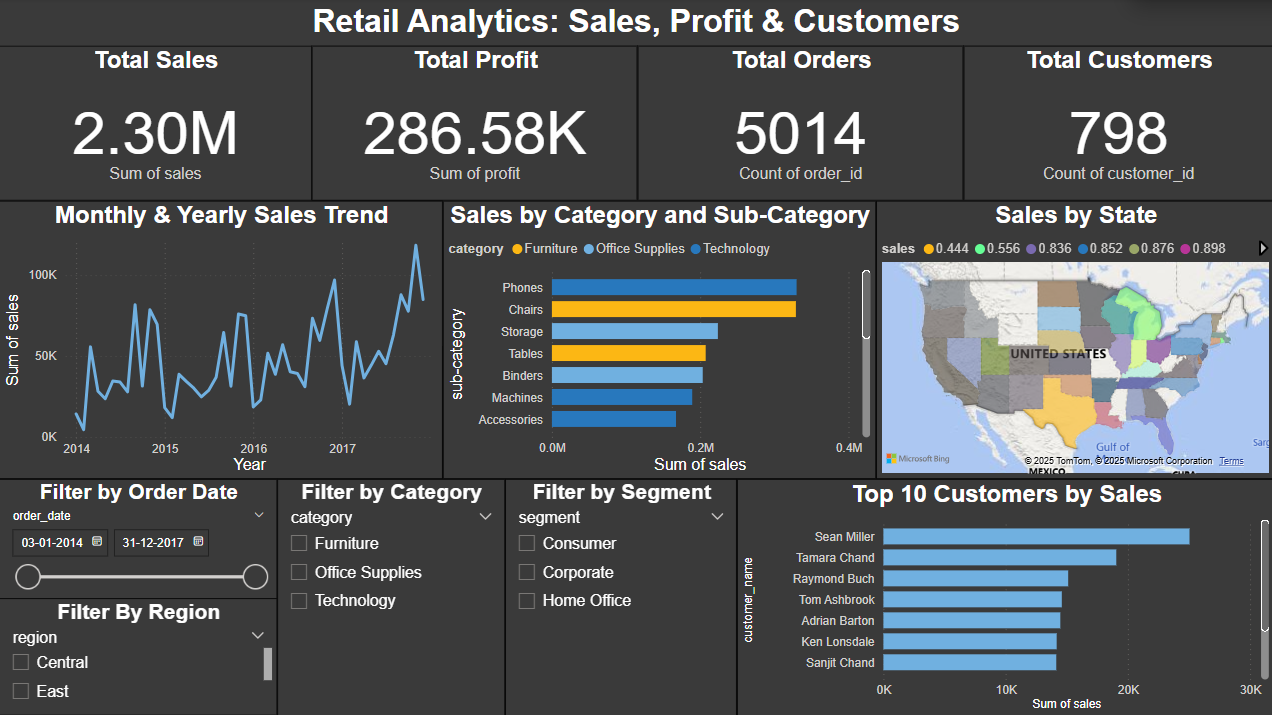

What the dashboard file says about the page in this screenshot:
{"tool":"powerbi","page":{"name":"Retail Sales Dashboard","canvas":[1280,720],"ordinal":0},"visuals":[{"type":"card","title":"Total Sales","fields":{"Values":["daily_sales.sales"]},"box":[0,47.9,313.7,155.5],"z":0},{"type":"card","title":"Total Profit","fields":{"Values":["daily_sales.profit"]},"box":[313.7,47.9,327,155.5],"z":1000},{"type":"card","title":"Total Orders","fields":{"Values":["daily_sales.order_id"]},"box":[640.8,47.9,327,155.5],"z":2000},{"type":"card","title":"Total Customers","fields":{"Values":["daily_sales.customer_id"]},"box":[967.8,47.9,311.1,155.5],"z":3000},{"type":"lineChart","title":"Monthly & Yearly Sales Trend","fields":{"Y":["daily_sales.sales"],"Category":["daily_sales.order_date.Variation.Date Hierarchy.Year","daily_sales.order_date.Variation.Date Hierarchy.Month"]},"box":[0,203.9,445.5,279.4],"z":4000},{"type":"barChart","title":"Sales by Category and Sub-Category","fields":{"Category":["daily_sales.sub-category"],"Y":["daily_sales.sales"],"Series":["daily_sales.category"]},"box":[445.5,203.9,434.9,279.4],"z":5000},{"type":"clusteredBarChart","title":"Top 10 Customers by Sales","fields":{"Category":["daily_sales.customer_name"],"Y":["daily_sales.sales"]},"box":[740.5,482.6,539.8,238],"z":6000},{"type":"filledMap","title":"Sales by State","fields":{"Category":["daily_sales.state"],"Series":["daily_sales.sales"]},"box":[880.4,203.9,400.2,279.4],"z":7000},{"type":"slicer","title":"Filter by Order Date","fields":{"Values":["daily_sales.order_date"]},"box":[0,482.6,279.2,130.3],"z":8000},{"type":"slicer","title":"Filter By Region","fields":{"Values":["daily_sales.region"]},"box":[0,602.6,279.4,117.8],"z":9000},{"type":"slicer","title":"Filter by Category ","fields":{"Values":["daily_sales.category"]},"box":[279.2,482.6,228.7,238],"z":10000},{"type":"slicer","title":"Filter by Segment","fields":{"Values":["daily_sales.segment"]},"box":[507.8,482.6,232.7,238],"z":11000},{"type":"textbox","box":[0,0,1278.9,47.9],"z":12000}]}

Visuals, with their boxes in screenshot pixels (x1, y1, x2, y2), scaled from the page's 1280x720 canvas onto the 1272x715 screenshot:
"Total Sales" card: region(0, 48, 312, 202)
"Total Profit" card: region(312, 48, 637, 202)
"Total Orders" card: region(637, 48, 962, 202)
"Total Customers" card: region(962, 48, 1271, 202)
"Monthly & Yearly Sales Trend" lineChart: region(0, 202, 443, 480)
"Sales by Category and Sub-Category" barChart: region(443, 202, 875, 480)
"Top 10 Customers by Sales" clusteredBarChart: region(736, 479, 1271, 714)
"Sales by State" filledMap: region(875, 202, 1271, 480)
"Filter by Order Date" slicer: region(0, 479, 277, 609)
"Filter By Region" slicer: region(0, 598, 278, 714)
"Filter by Category " slicer: region(277, 479, 505, 714)
"Filter by Segment" slicer: region(505, 479, 736, 714)
textbox: region(0, 0, 1271, 48)
